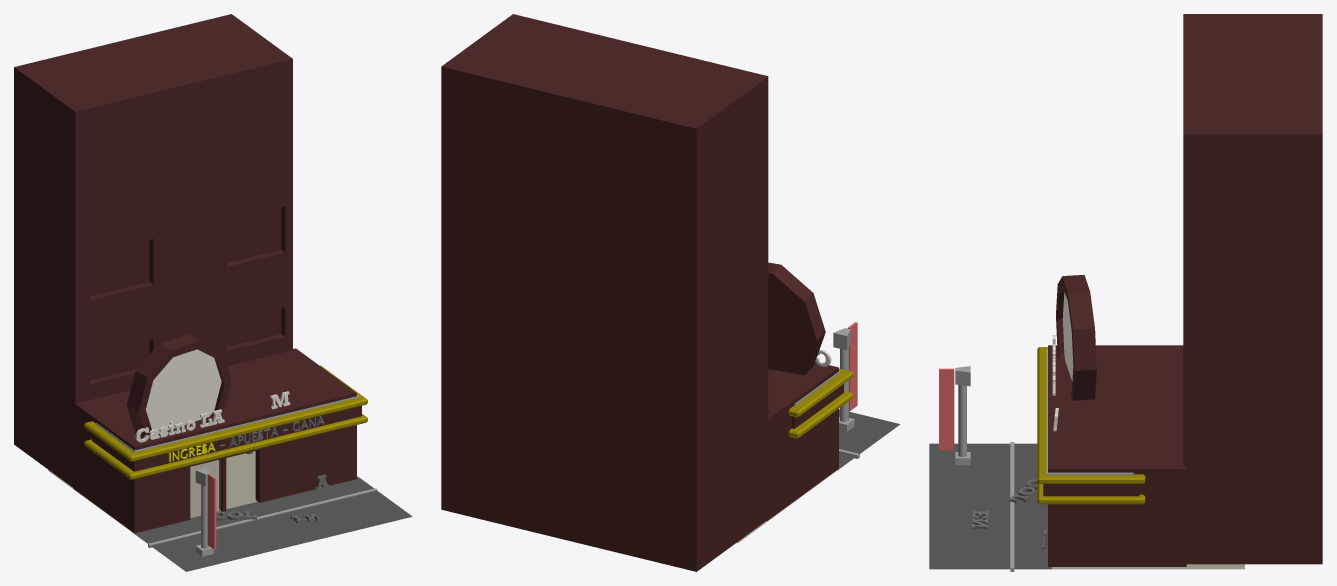
File: NUEVO_MENU.fbx
3 views of the same model, side by side, from view 1: azimuth 30°, elevation 25°; view 2: azimuth 150°, elevation 25°; view 3: azimuth 270°, elevation 25° (orthographic). The views are drawn at different scales.
Visible parts, largest first — view 1: Menu2; view 2: Menu2; view 3: Menu2.
Part boxes in pixels (<box>): Menu2: <box>14,14,412,571</box>; Menu2: <box>441,14,900,571</box>; Menu2: <box>929,14,1322,571</box>.
Bounding box in the file's own units: 20.46 × 31.54 × 25.75.
